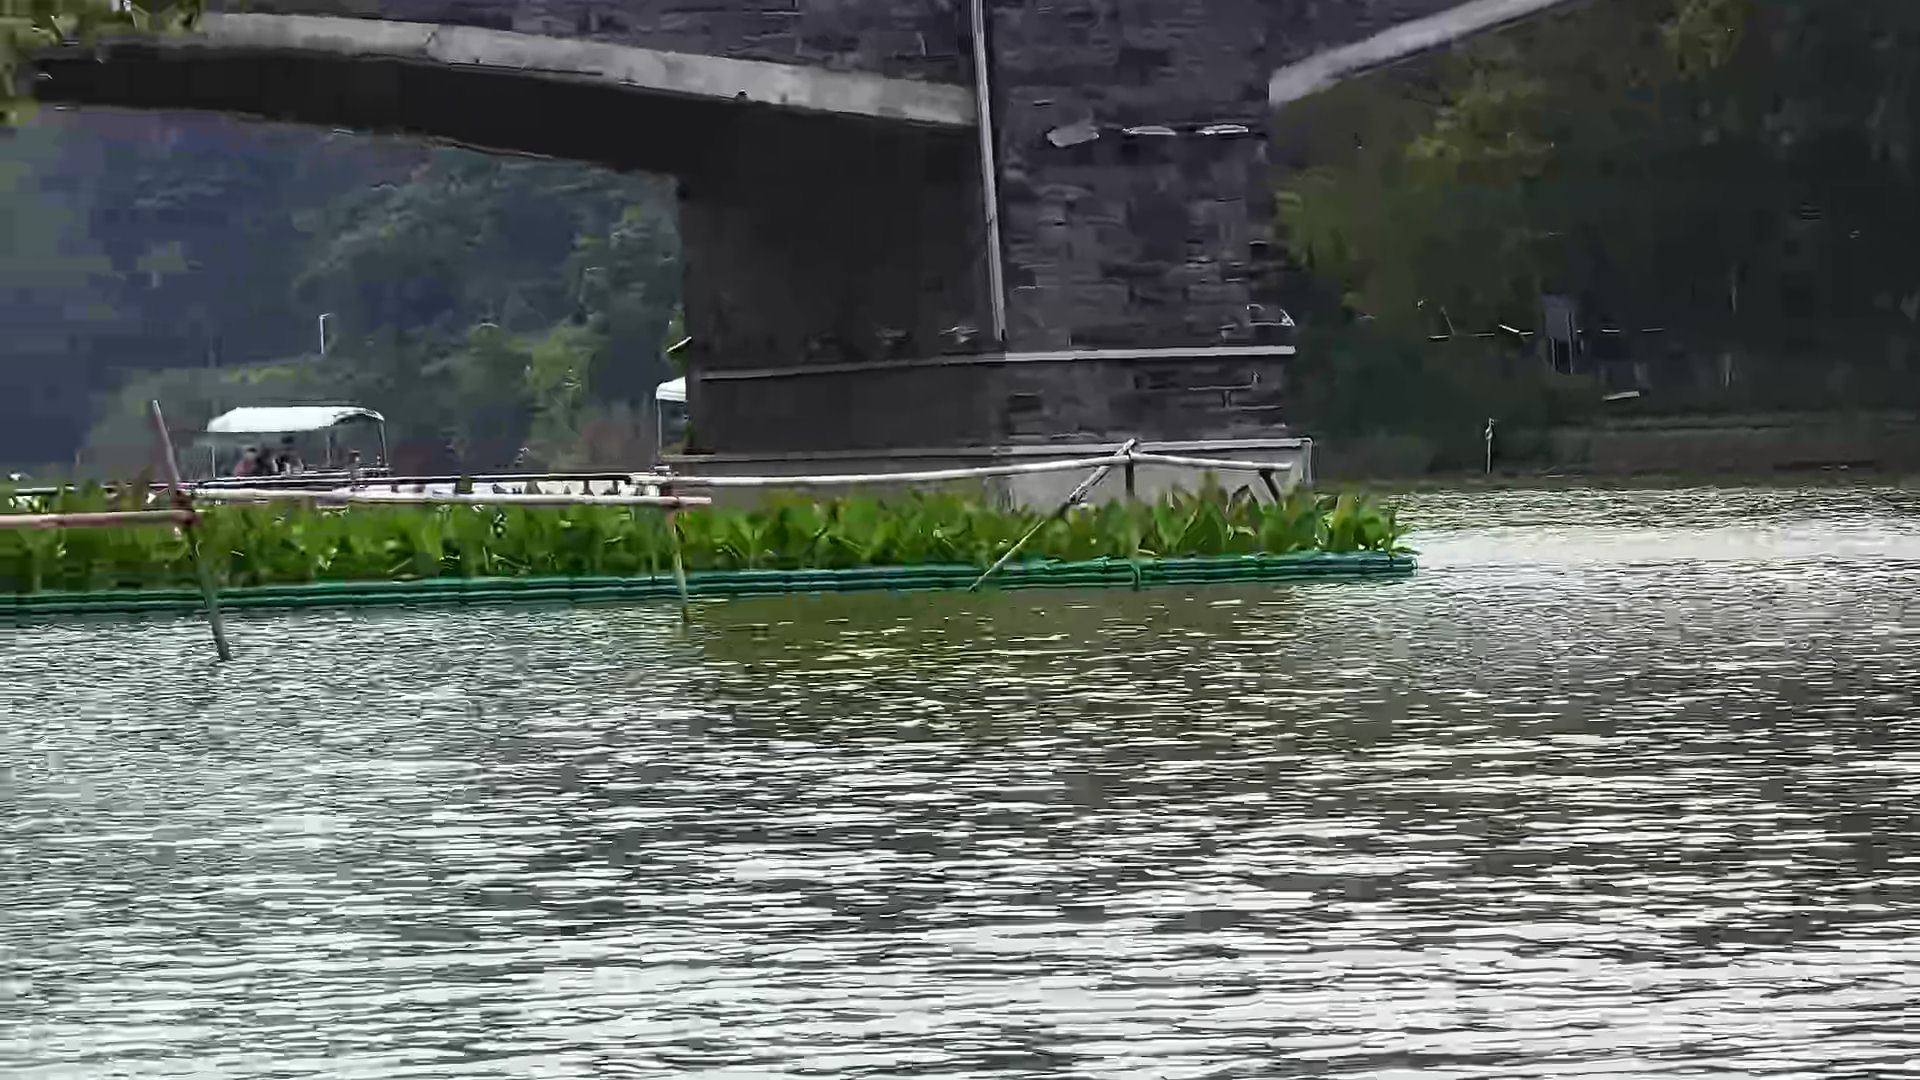boat: (203, 384, 394, 477)
grass: (17, 475, 1410, 587)
